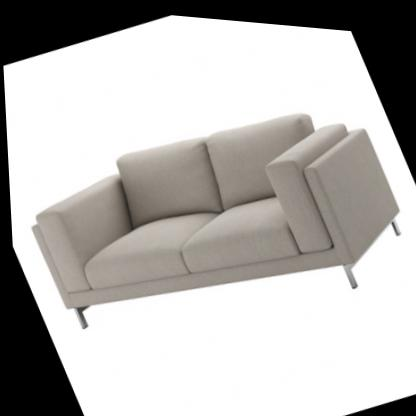Sofa: (2, 49, 416, 398)
